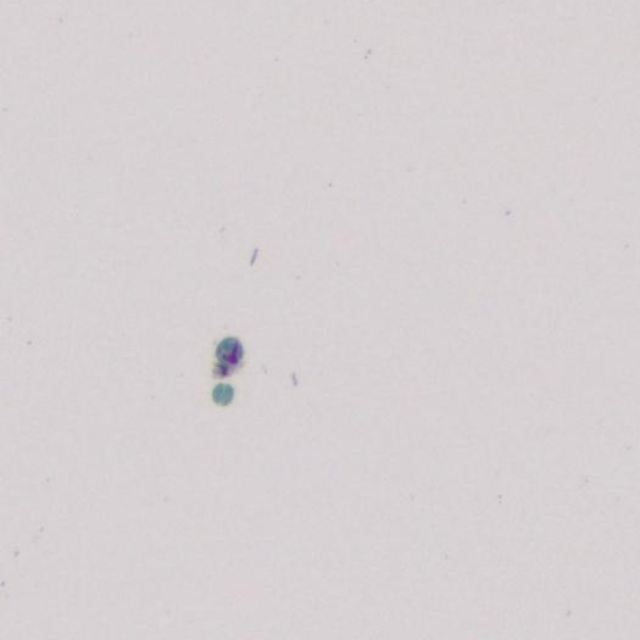intermediate: (216, 336, 243, 374)
non_viable: (211, 382, 234, 406)
